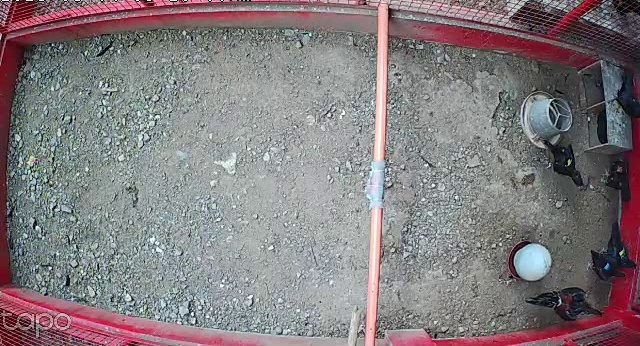Chicken: (542, 137, 584, 186), (606, 68, 640, 126), (598, 155, 635, 202), (602, 223, 635, 269), (586, 250, 626, 282)
Rooster: (524, 283, 604, 325)
Saddle_Color_Blue: (604, 263, 611, 271)
Saddle_Color_Yellow: (566, 155, 572, 166)
Saddle_Color_YellowGreen: (619, 248, 626, 259)
